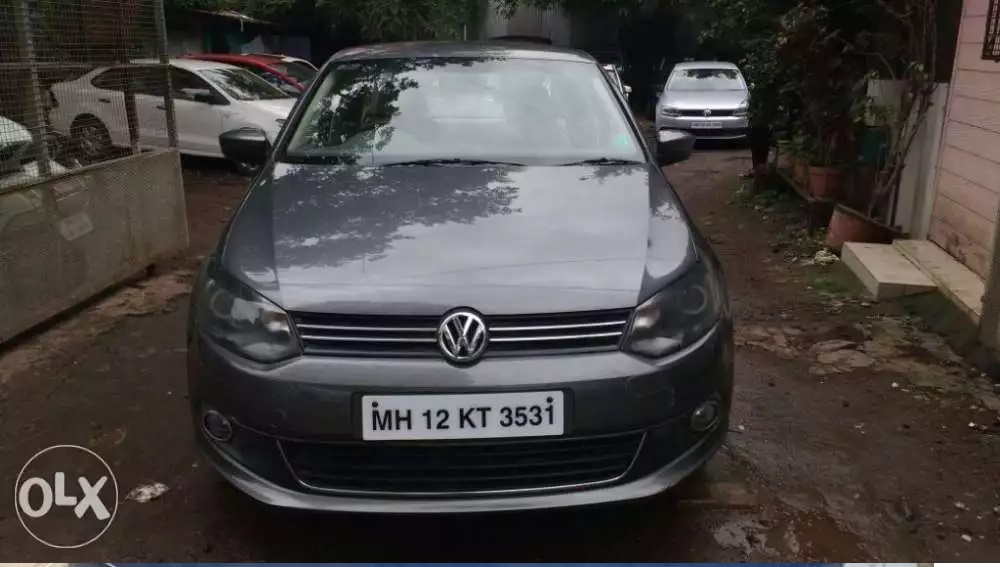licenseplate: (359, 390, 572, 445)
